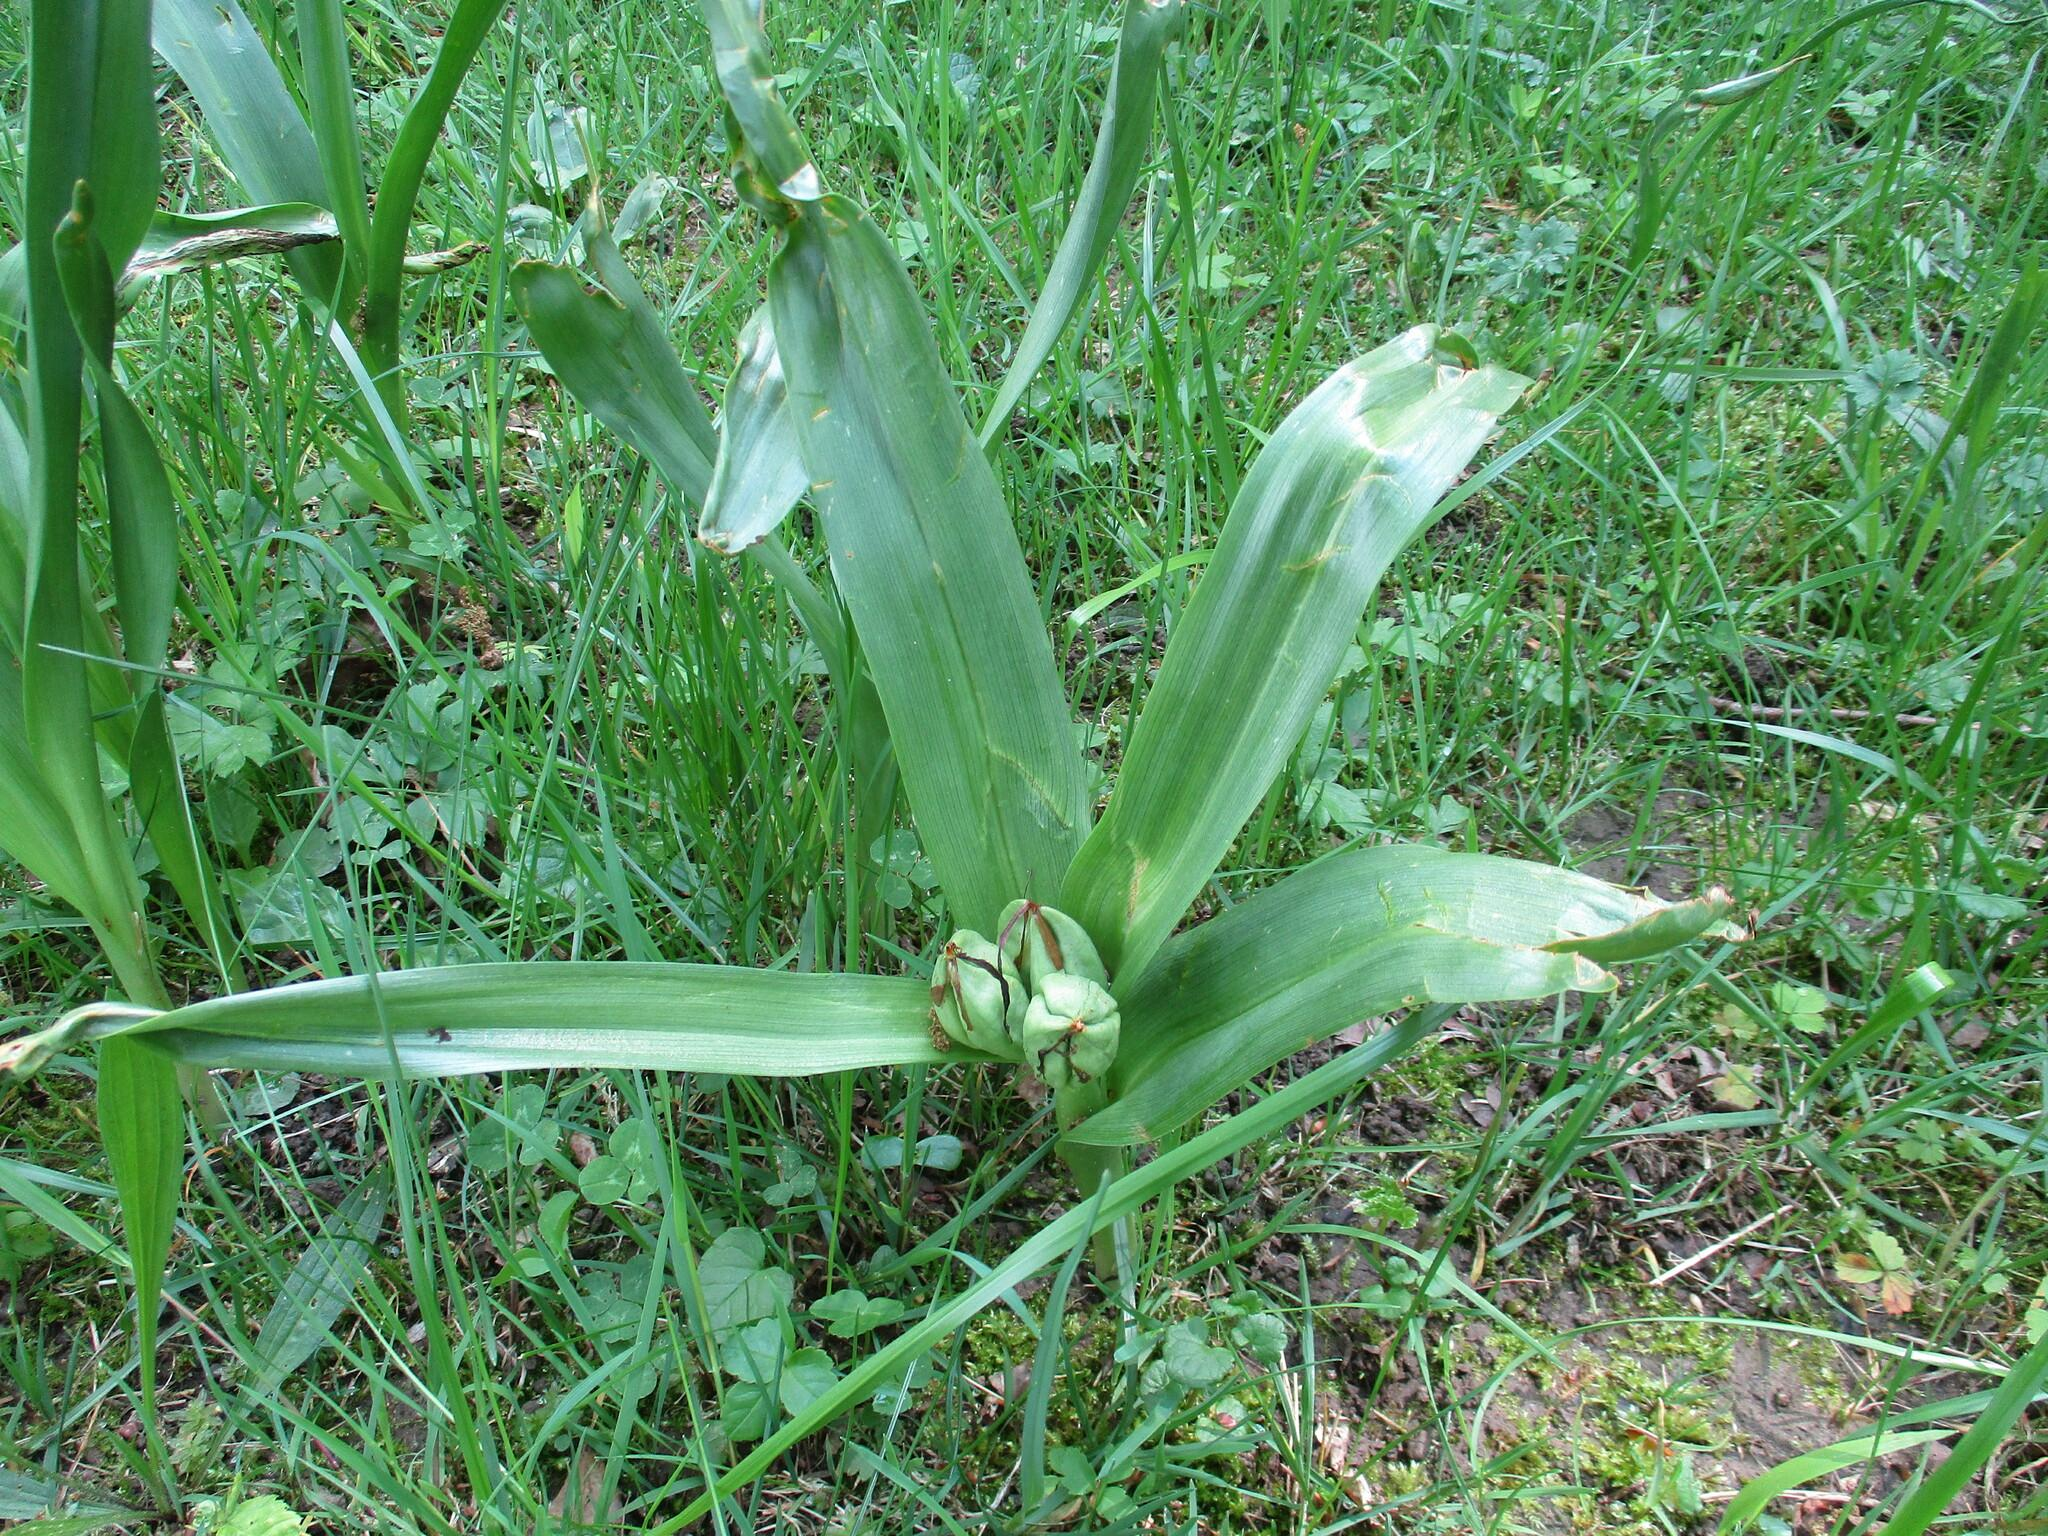Colchicum autumnale L: (601, 203, 1577, 1310)
